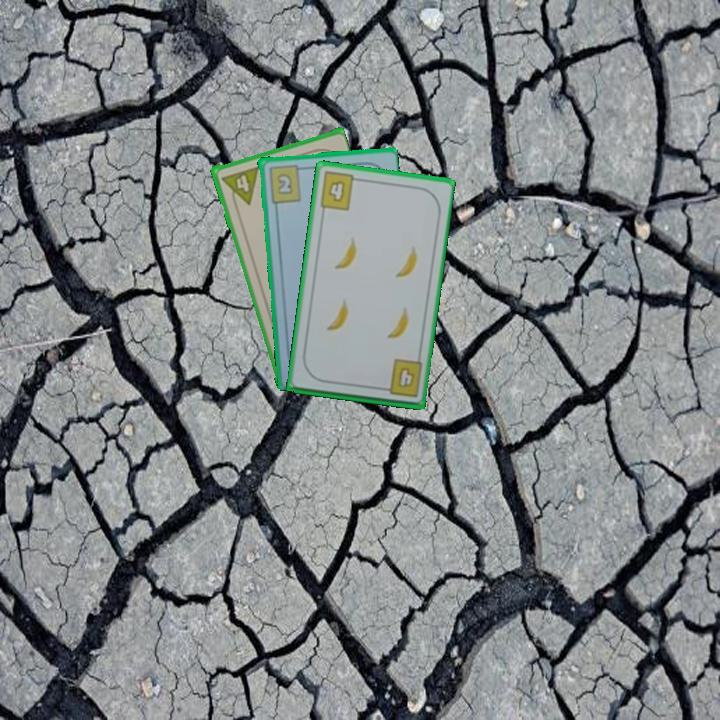2b: (265, 161, 307, 205)
4b: (316, 168, 363, 213), (377, 356, 425, 400)
4p: (217, 163, 261, 210)
